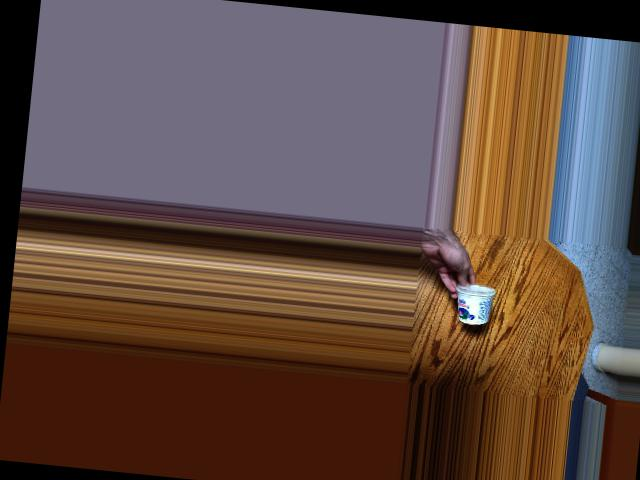cotage: (455, 280, 505, 332)
